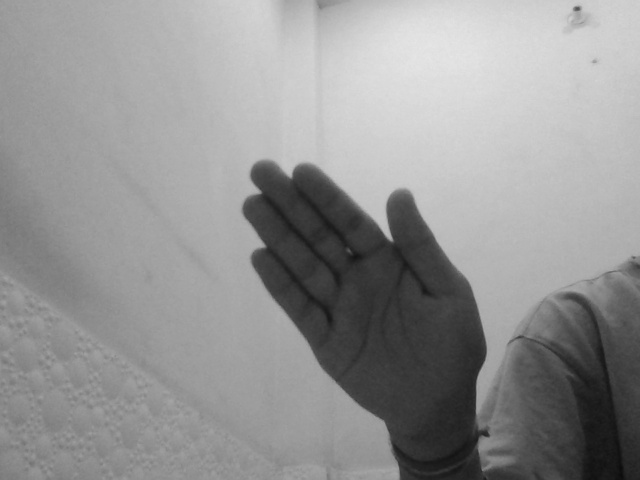Hello: (239, 155, 489, 446)
